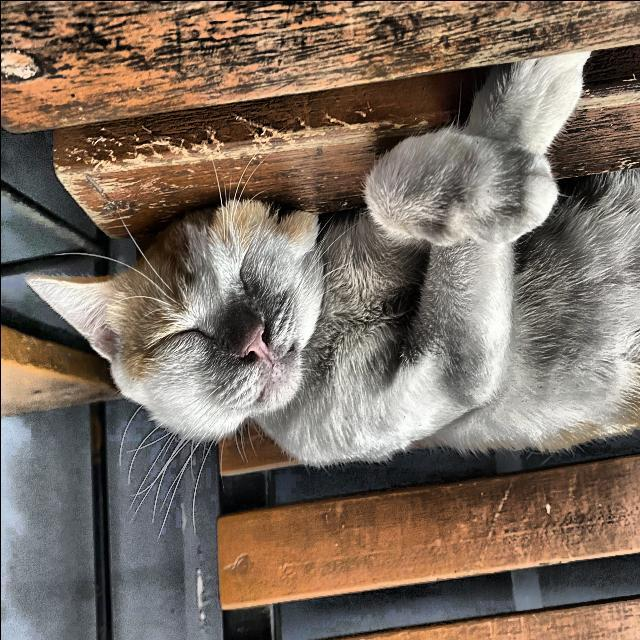Healthy skin: (441, 236, 578, 398), (211, 293, 345, 446), (19, 236, 147, 372)
